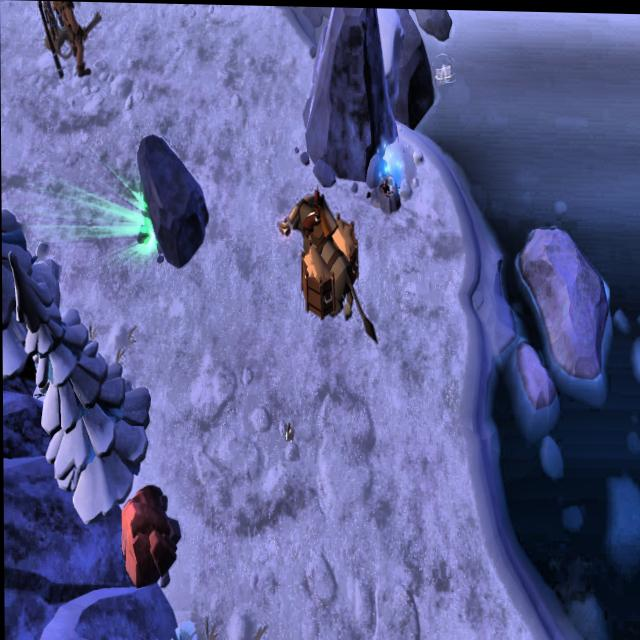enemy_factionKeeper: (53, 1, 104, 85)
rock_t5: (116, 480, 180, 586)
